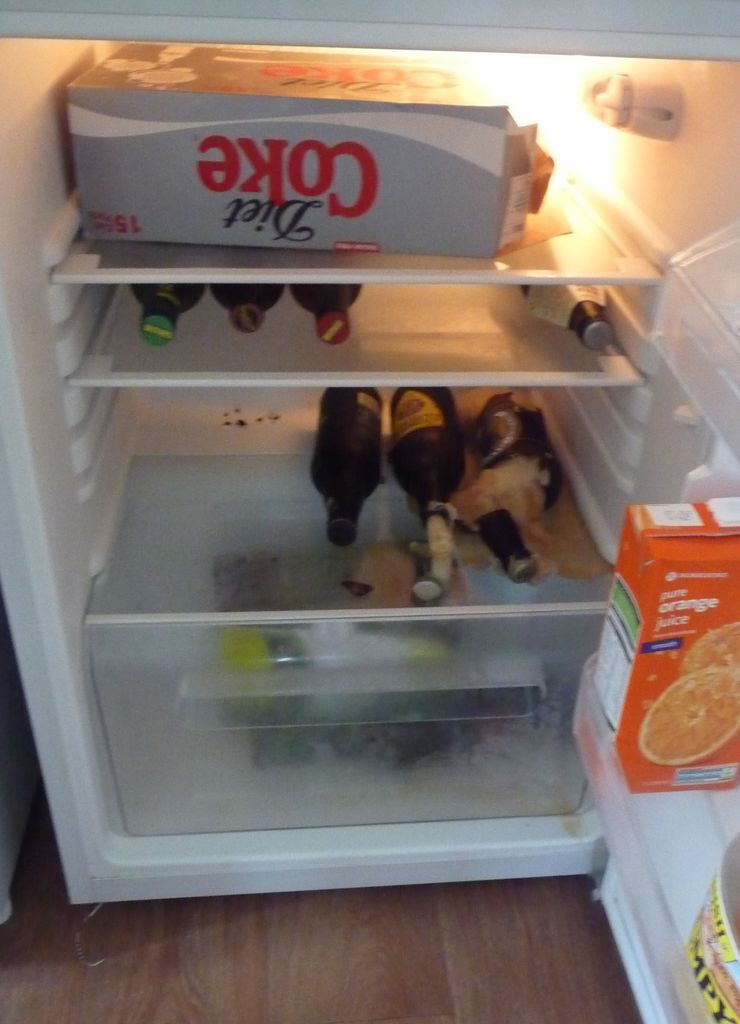refrigerator door: (671, 336, 740, 1024)
